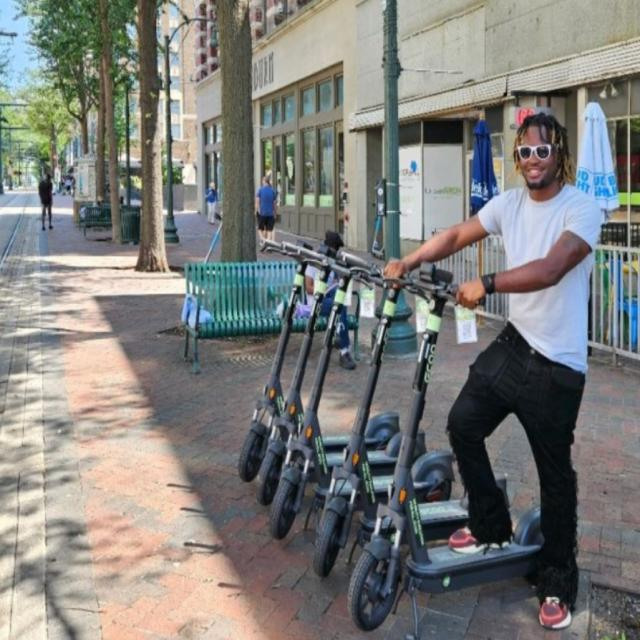non-helmet: (348, 85, 610, 629)
